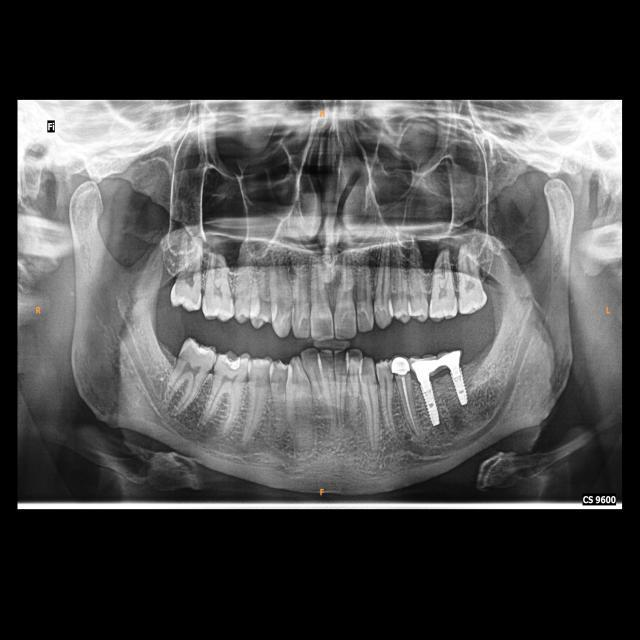implant: (410, 354, 445, 432), (441, 350, 470, 410)
kanal-tedavisi: (399, 383, 420, 435)
kaplama: (390, 358, 412, 374)
